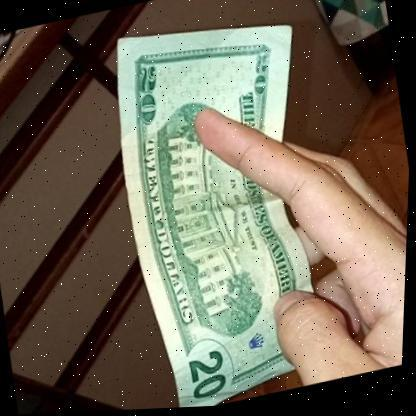dollar_back: (88, 0, 350, 413)
